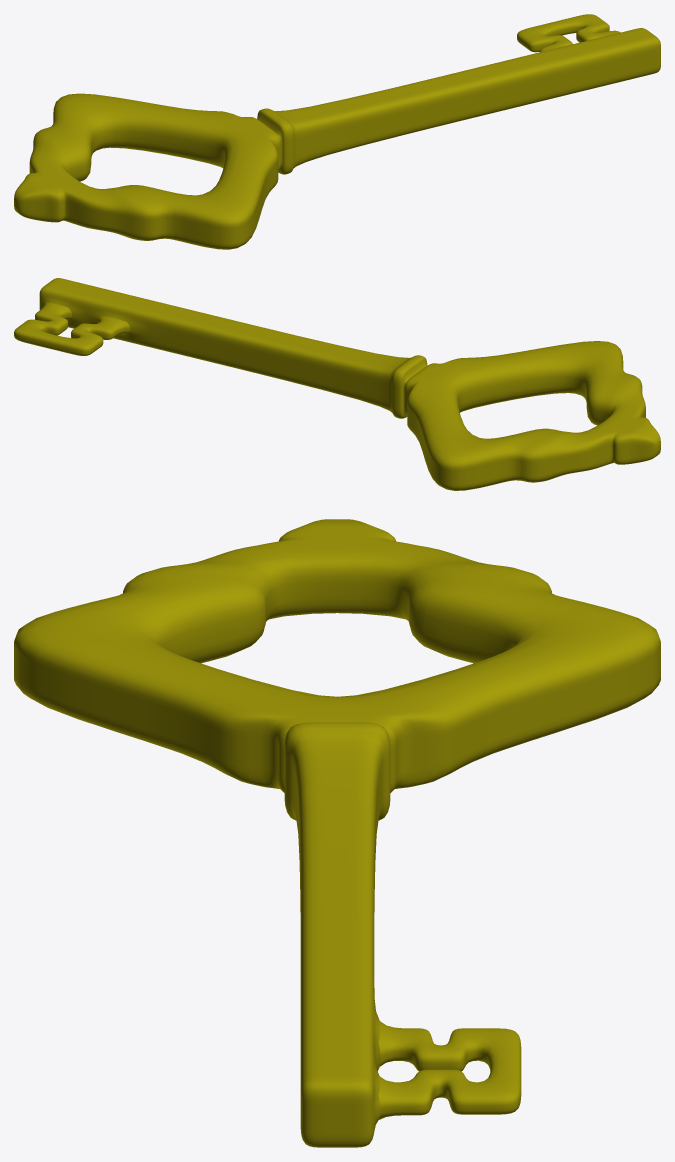
Rendered from key2.gltf.
3 views of the same model, one above another, from view 1: azimuth 30°, elevation 25°; view 2: azimuth 150°, elevation 25°; view 3: azimuth 270°, elevation 25° (orthographic). The views are drawn at different scales.
Visible parts, largest first — view 1: defaultMaterial; view 2: defaultMaterial; view 3: defaultMaterial.
Part boxes in pixels (<box>): defaultMaterial: <box>14,14,660,249</box>; defaultMaterial: <box>14,278,660,490</box>; defaultMaterial: <box>14,519,660,1147</box>.
Size of the model in its own units: 2 by 0.1534 by 0.9376.
